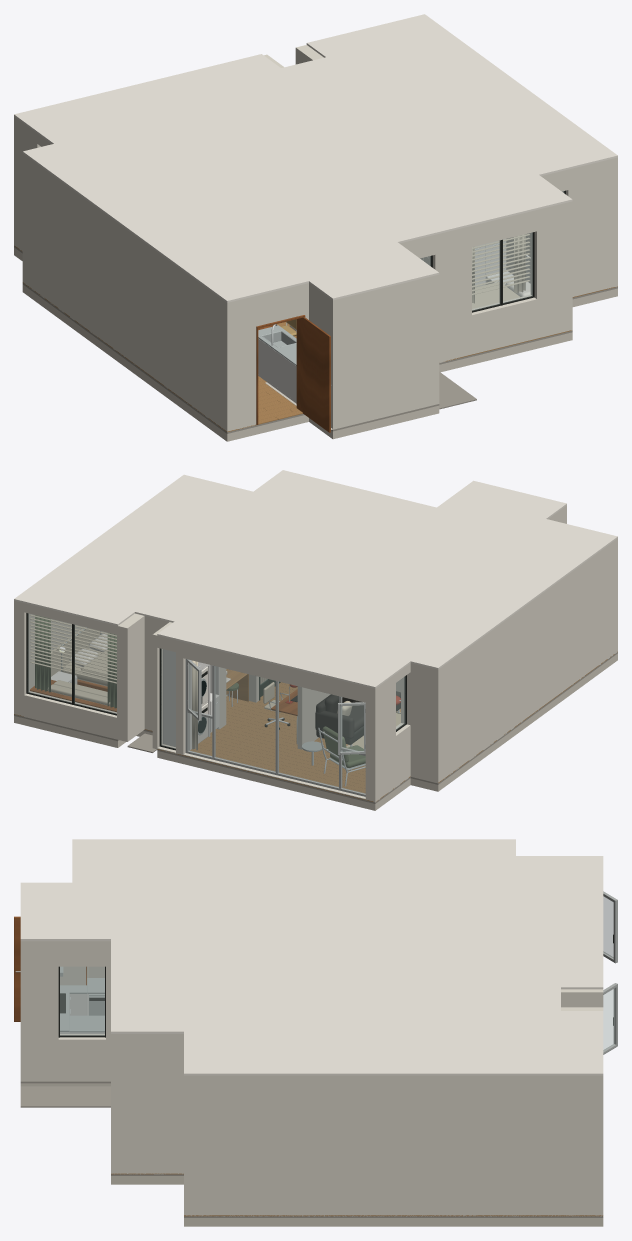
File: home-model.glb
3 renders of one model, top to bottom at view 1: azimuth 30°, elevation 25°; view 2: azimuth 150°, elevation 25°; view 3: azimuth 270°, elevation 25°, orthographic. The views are drawn at different scales.
Visible parts, largest first — view 1: 全屋顶面, CAD墙体_36, CAD墙体_86, CAD墙体_01, CAD墙体_02, 完整户型基座, CAD墙体_04, CAD墙体_35, CAD墙体_05, CAD墙体_83, CAD墙体_20, 入户门 (+27 smaller); view 2: 全屋顶面, Floor_shared_温润橡木地板, CAD墙体_36, CAD墙体_86, 阳台F2中央固定玻璃, 阳台F1中央固定玻璃, CAD墙体_02, 完整户型基座, CAD墙体_01, 主卧窗玻璃.001, 主卧窗玻璃, CAD墙体_05 (+34 smaller); view 3: 全屋顶面, CAD墙体_43, CAD墙体_01, CAD墙体_04, CAD墙体_86, CAD墙体_26, 完整户型基座, CAD墙体_83, CAD墙体_34, 厨房窗玻璃, CAD墙体_40, CAD墙体_85 (+23 smaller).
Boxes of the visible parts, x1,y1,x2,y2 form: 全屋顶面: (14, 14, 617, 302); CAD墙体_36: (22, 190, 256, 373); CAD墙体_86: (14, 45, 617, 313); CAD墙体_01: (289, 262, 617, 428); CAD墙体_02: (14, 221, 256, 430); 完整户型基座: (14, 247, 617, 441); CAD墙体_04: (331, 248, 617, 404); CAD墙体_35: (308, 311, 439, 371); CAD墙体_05: (14, 207, 256, 407); CAD墙体_83: (22, 61, 617, 321); CAD墙体_20: (14, 193, 256, 390); 入户门: (303, 317, 330, 432); 全屋顶面: (14, 470, 617, 688); Floor_shared_温润橡木地板: (14, 651, 617, 801); CAD墙体_36: (401, 570, 617, 731); CAD墙体_86: (14, 505, 617, 697); 阳台F2中央固定玻璃: (215, 666, 275, 771); 阳台F1中央固定玻璃: (278, 682, 338, 787); CAD墙体_02: (365, 630, 617, 801); 完整户型基座: (14, 653, 617, 810); CAD墙体_01: (14, 680, 258, 747); 主卧窗玻璃.001: (28, 613, 71, 702); 主卧窗玻璃: (74, 625, 116, 713); CAD墙体_05: (365, 618, 617, 780); 全屋顶面: (20, 839, 603, 1075); CAD墙体_43: (184, 1115, 603, 1152); CAD墙体_01: (20, 1054, 603, 1214); CAD墙体_04: (20, 1034, 603, 1189); CAD墙体_86: (20, 941, 603, 1086); CAD墙体_26: (184, 1159, 603, 1171); 完整户型基座: (20, 1083, 603, 1226); CAD墙体_83: (20, 956, 603, 1095); CAD墙体_34: (184, 1152, 603, 1159); 厨房窗玻璃: (60, 967, 104, 1035); CAD墙体_40: (111, 1073, 183, 1110); CAD墙体_85: (20, 952, 603, 1090).
Size of the model in its own units: 9.73 by 2.96 by 10.6.
Materials: 33 (3 with a texture image).
